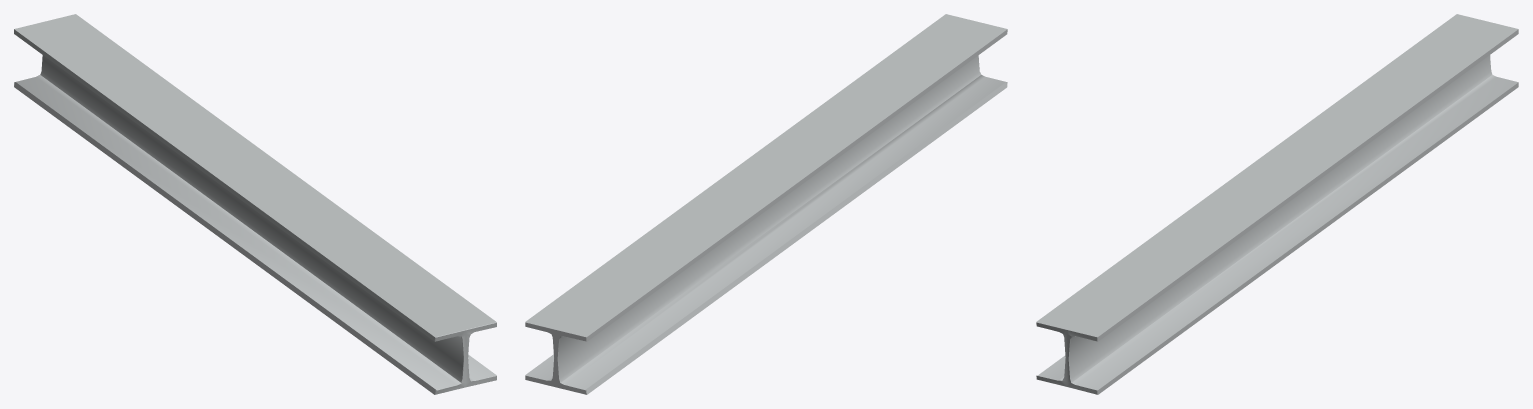
The model's file is I-Beam.FBX.
The picture shows the model from 3 angles, left to right: view 1: azimuth 30°, elevation 25°; view 2: azimuth 150°, elevation 25°; view 3: azimuth 330°, elevation 25°; orthographic projection.
Visible parts, largest first — view 1: Box001; view 2: Box001; view 3: Box001.
Boxes of the visible parts, <box> form: Box001: <box>14,14,496,394</box>; Box001: <box>525,14,1007,394</box>; Box001: <box>1036,14,1518,394</box>.
Bounding box in the file's own units: 16.97 × 15.2 × 200.
1 material, 1 textured.
